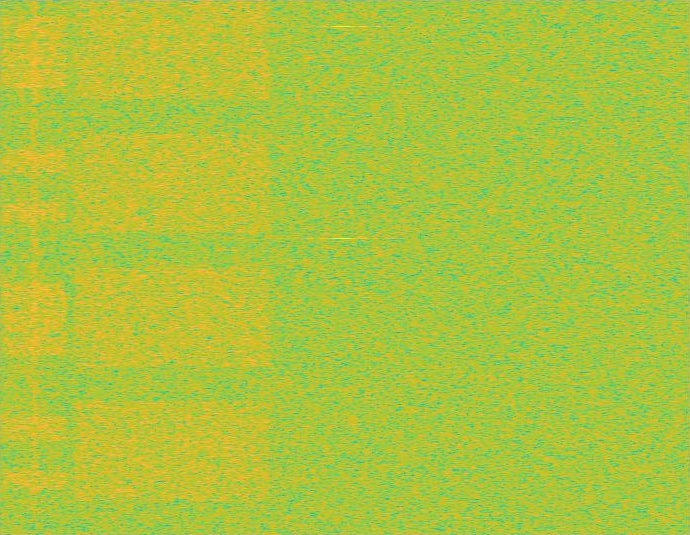5G: (69, 0, 276, 534)
DSSS: (30, 0, 39, 534)
LTE: (0, 0, 69, 534)
Radar: (336, 0, 350, 534)
